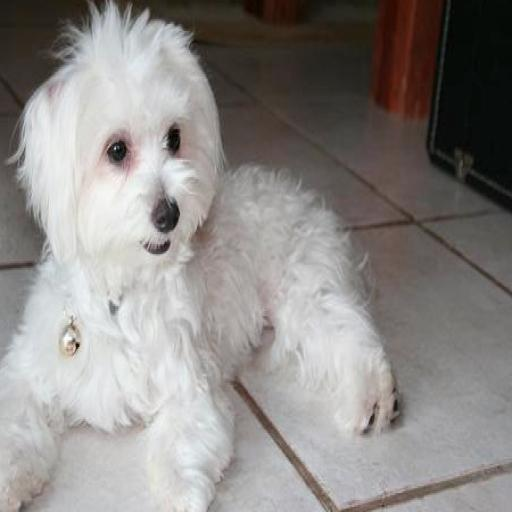dog_face: (21, 19, 216, 271)
